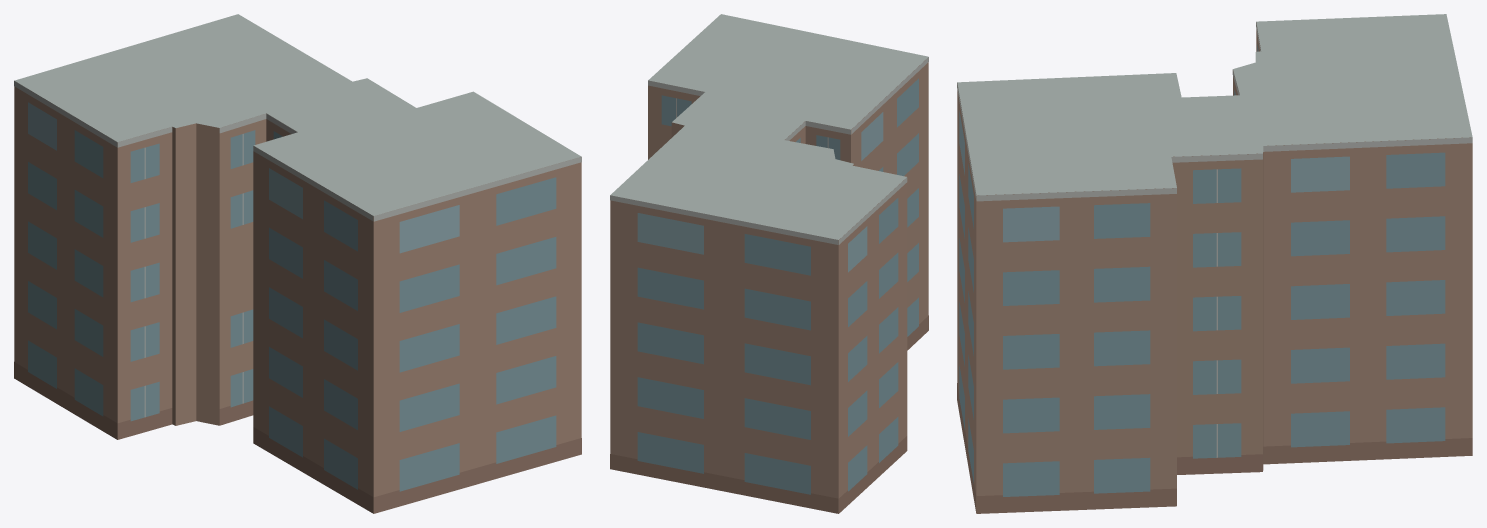
Rendered from survey-upis-32811553.glb.
The picture shows the model from 3 angles, left to right: view 1: azimuth 30°, elevation 25°; view 2: azimuth 150°, elevation 25°; view 3: azimuth 270°, elevation 25°; orthographic projection. The views are drawn at different scales.
Visible parts, largest first — view 1: survey-upis-32811553.tmp; view 2: survey-upis-32811553.tmp; view 3: survey-upis-32811553.tmp.
Part boxes in pixels (x1,y1,x2,y2): survey-upis-32811553.tmp: (14,14,581,513); survey-upis-32811553.tmp: (610,14,928,513); survey-upis-32811553.tmp: (957,14,1472,513).
Bounding box in the file's own units: 16.02 × 13.1 × 19.23.
